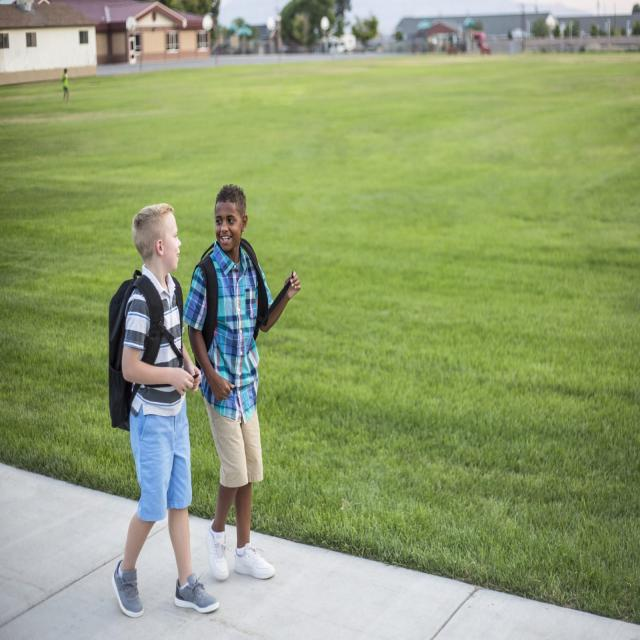Person: (182, 185, 300, 580), (108, 204, 219, 618)
